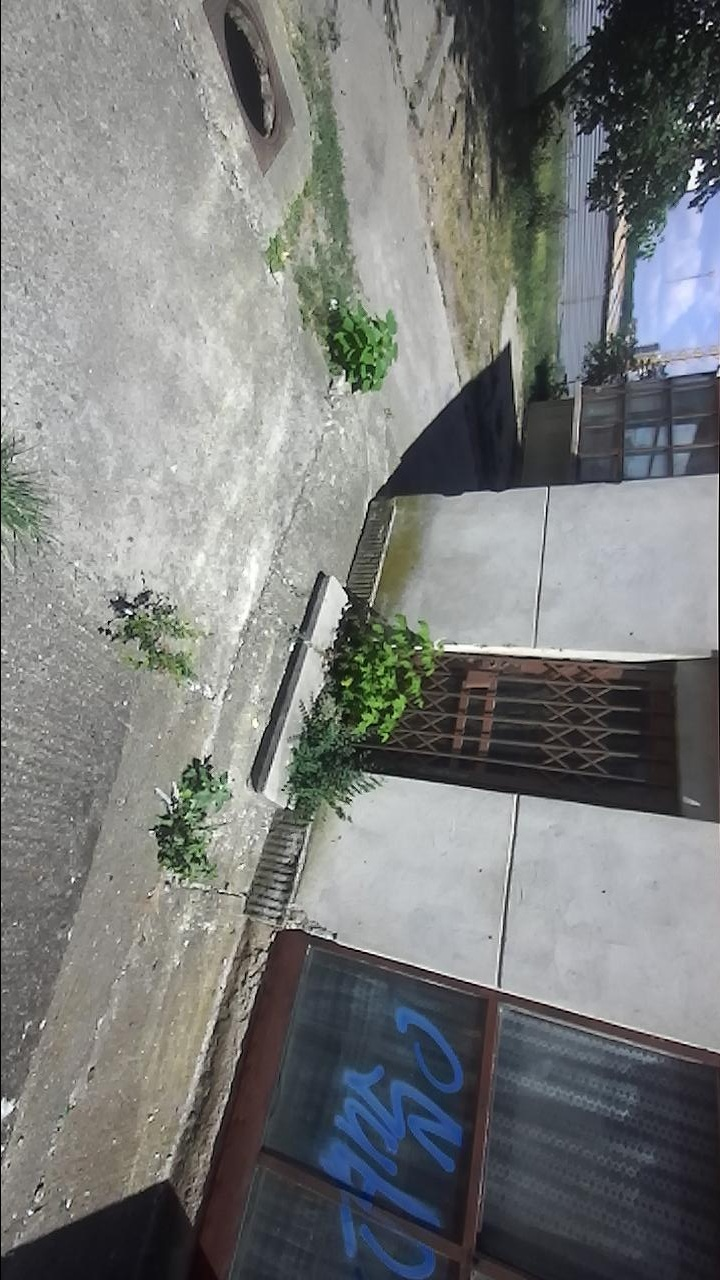drain: (217, 1, 286, 153)
